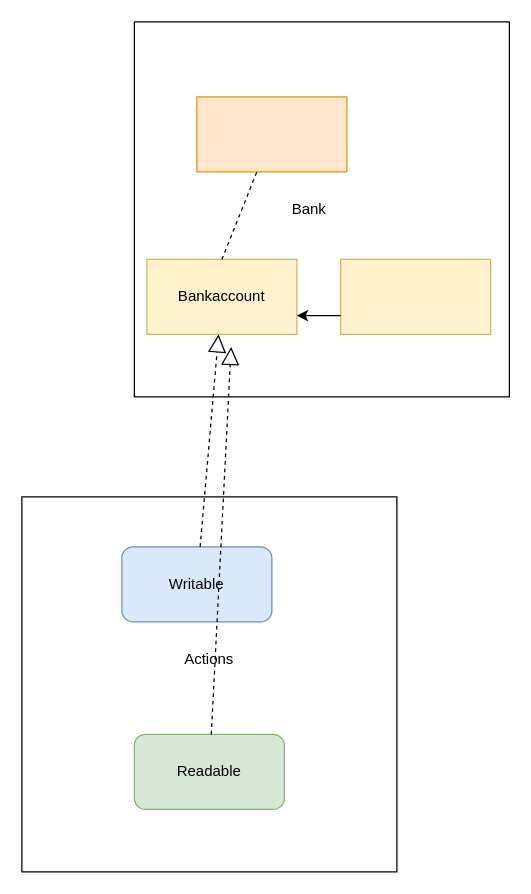
Some shapes in this 531 by 894 pixel diagram are drawn without their labels. Each missing label, with the centre of its shape:
"Bankable" belongs at (271,134).
"CrediCard" belongs at (415,296).
